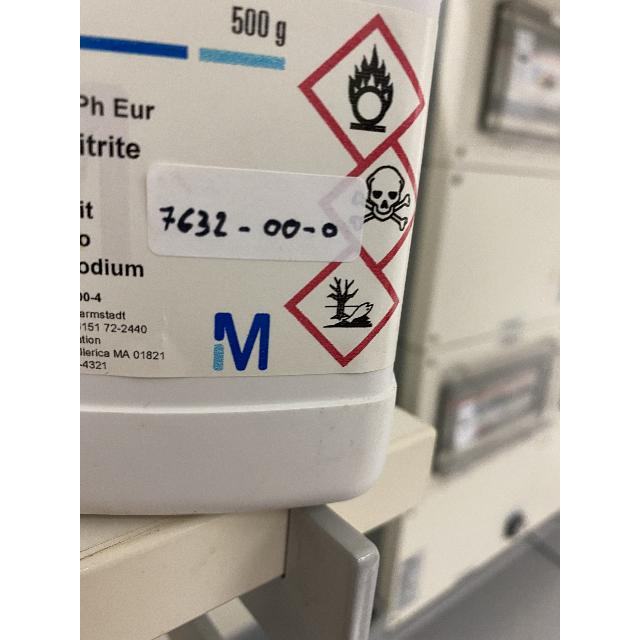acute toxicity: (350, 165, 410, 231)
hazardous to the environment: (323, 276, 373, 328)
oxidising: (348, 43, 394, 133)
